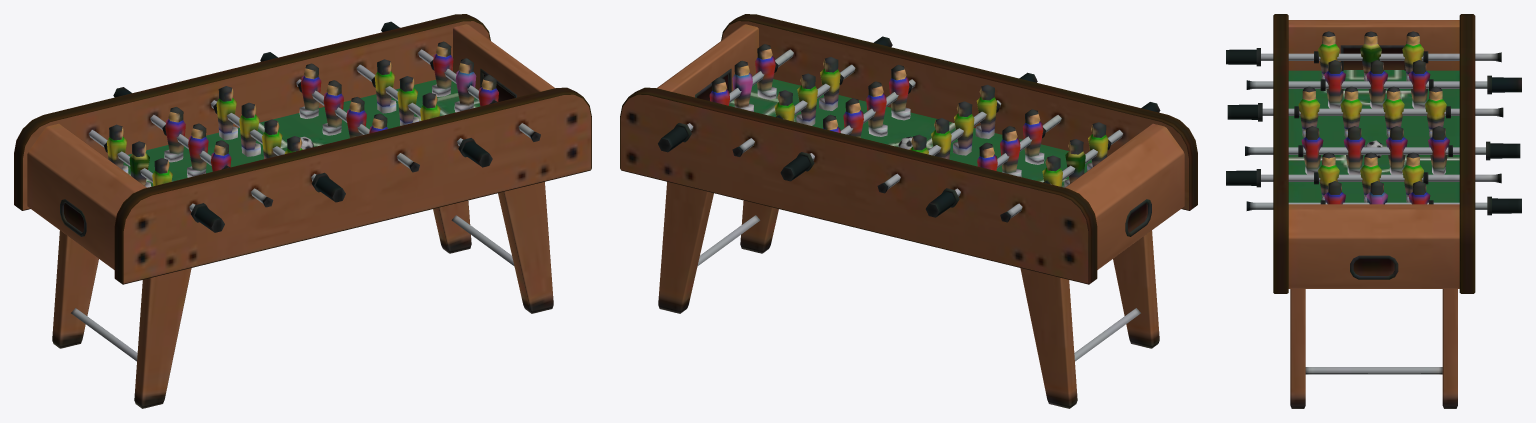
3 renders of one model, left to right at view 1: azimuth 30°, elevation 25°; view 2: azimuth 150°, elevation 25°; view 3: azimuth 270°, elevation 25°, orthographic. The views are drawn at different scales.
Bounding box in the file's own units: 16.2 × 7.46 × 9.52.
1 material, 1 textured.
